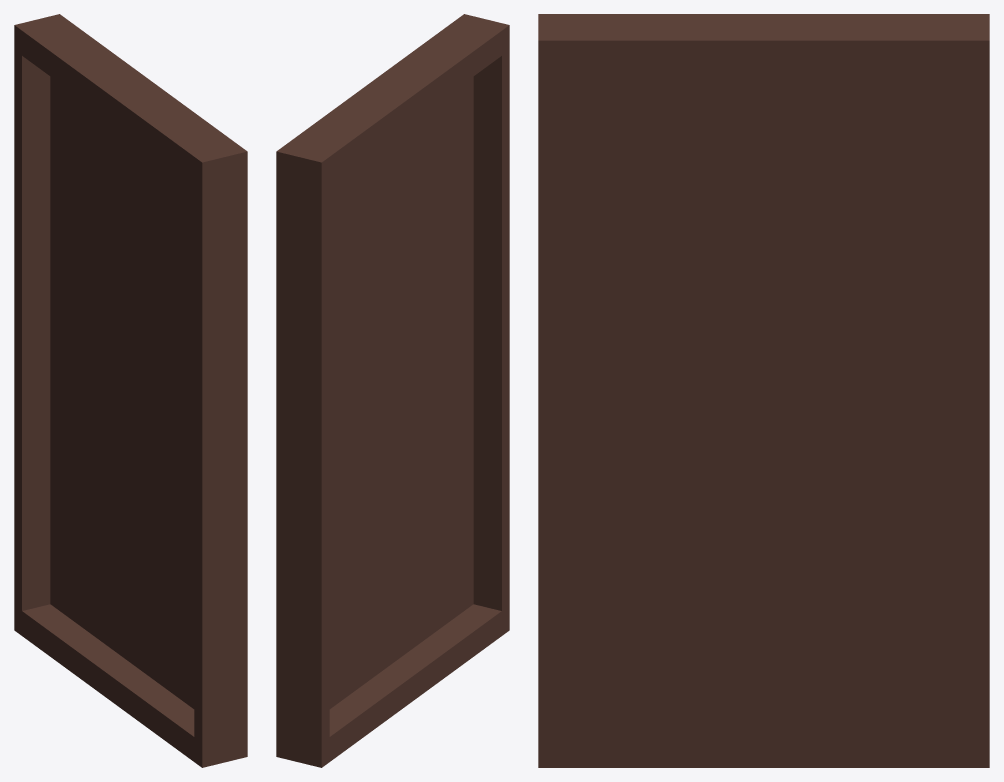
File: MirrorFrame.fbx
3 renders of one model, left to right at view 1: azimuth 30°, elevation 25°; view 2: azimuth 150°, elevation 25°; view 3: azimuth 270°, elevation 25°, orthographic. The views are drawn at different scales.
Visible parts, largest first — view 1: MirrorFrane; view 2: MirrorFrane; view 3: MirrorFrane.
Part boxes in pixels (x1,y1,x2,y2): MirrorFrane: (14,14,247,767); MirrorFrane: (276,14,509,767); MirrorFrane: (538,14,989,767).
Bounding box in the file's own units: 9.02 × 115 × 64.76.
